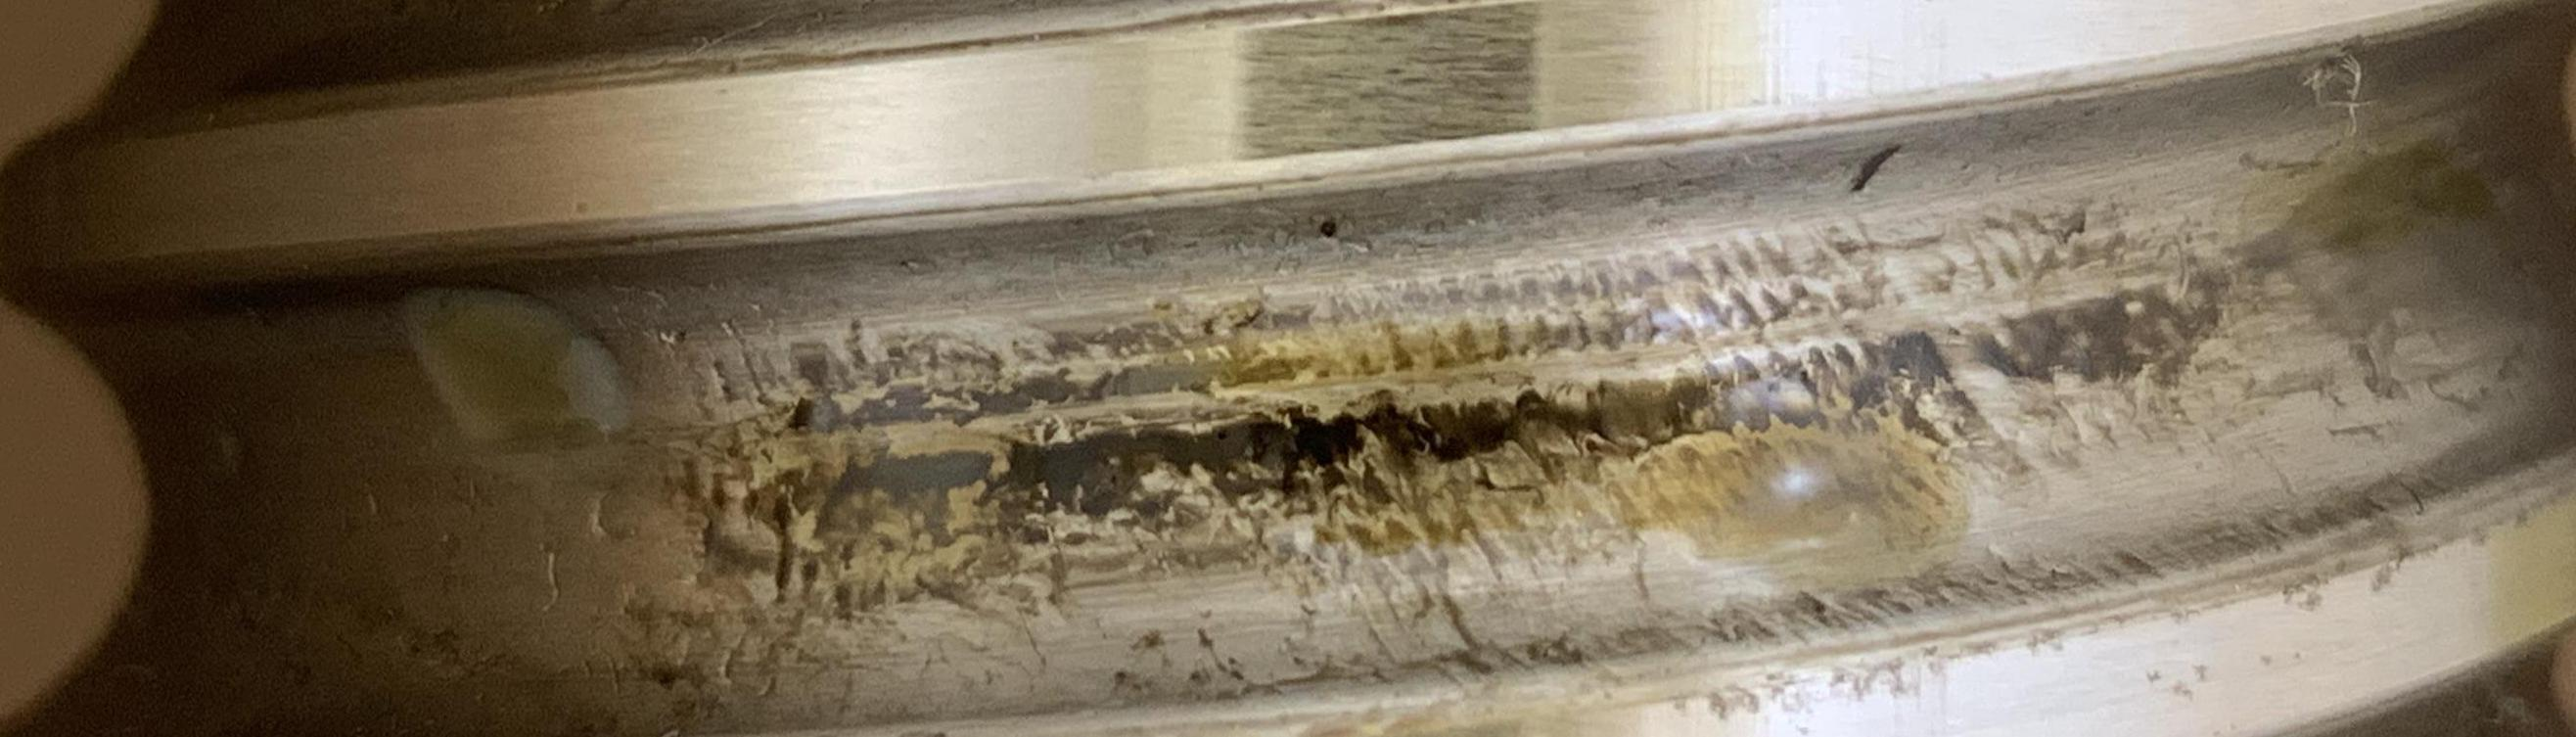pitting: (1850, 143, 1901, 192), (1318, 220, 1336, 236)
